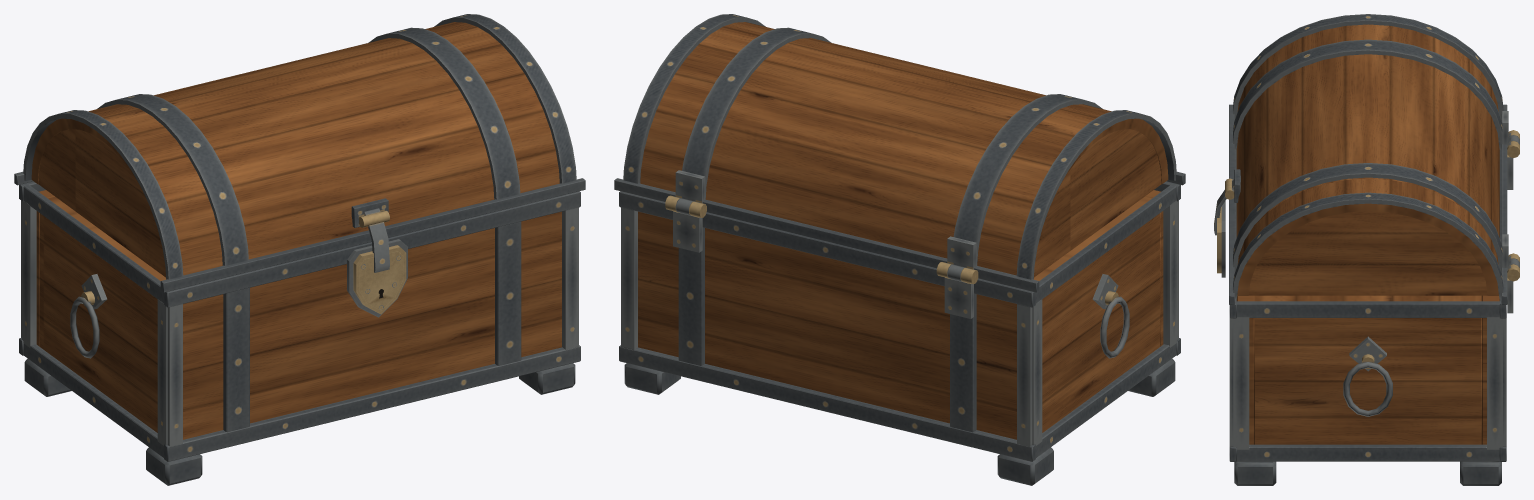
The picture shows the model from 3 angles, left to right: view 1: azimuth 30°, elevation 25°; view 2: azimuth 150°, elevation 25°; view 3: azimuth 270°, elevation 25°; orthographic projection. The views are drawn at different scales.
Parts seen in each view (by area): view 1: SM_Coffer_Lid.001, SM_Coffer_Body.001, SM_Coffer_BodyIron.001, SM_Coffer_LidIron.001, SM_Coffer_Lock.001, SM_Coffer_Hasp.001, SM_Coffer_Handle_L.001; view 2: SM_Coffer_Lid.001, SM_Coffer_Body.001, SM_Coffer_BodyIron.001, SM_Coffer_LidIron.001, SM_Coffer_Hinge_R_Fixed.001, SM_Coffer_Hinge_L_Fixed.001, SM_Coffer_Handle_L.001, SM_Coffer_Hinge_R_Moving.001, SM_Coffer_Hinge_L_Moving.001; view 3: SM_Coffer_Lid.001, SM_Coffer_Body.001, SM_Coffer_LidIron.001, SM_Coffer_BodyIron.001, SM_Coffer_Handle_R.001, SM_Coffer_Lock.001, SM_Coffer_Hasp.001, SM_Coffer_Hinge_R_Fixed.001, SM_Coffer_Hinge_L_Fixed.001.
Part boxes in pixels (x1,y1,x2,y2): SM_Coffer_Lid.001: [31, 22, 559, 277]; SM_Coffer_Body.001: [36, 190, 561, 439]; SM_Coffer_BodyIron.001: [19, 181, 580, 485]; SM_Coffer_LidIron.001: [14, 14, 585, 292]; SM_Coffer_Lock.001: [347, 239, 407, 317]; SM_Coffer_Hasp.001: [351, 198, 389, 272]; SM_Coffer_Handle_L.001: [70, 274, 107, 358]; SM_Coffer_Lid.001: [640, 22, 1168, 277]; SM_Coffer_Body.001: [638, 190, 1163, 439]; SM_Coffer_BodyIron.001: [619, 181, 1180, 485]; SM_Coffer_LidIron.001: [614, 14, 1185, 292]; SM_Coffer_Hinge_R_Fixed.001: [665, 195, 706, 252]; SM_Coffer_Hinge_L_Fixed.001: [936, 262, 978, 318]; SM_Coffer_Handle_L.001: [1092, 274, 1129, 358]; SM_Coffer_Hinge_R_Moving.001: [675, 170, 705, 215]; SM_Coffer_Hinge_L_Moving.001: [947, 236, 976, 281]; SM_Coffer_Lid.001: [1236, 24, 1499, 295]; SM_Coffer_Body.001: [1236, 295, 1499, 444]; SM_Coffer_LidIron.001: [1229, 14, 1507, 304]; SM_Coffer_BodyIron.001: [1229, 149, 1506, 485]; SM_Coffer_Handle_R.001: [1343, 336, 1392, 416]; SM_Coffer_Lock.001: [1217, 201, 1225, 277]; SM_Coffer_Hasp.001: [1214, 169, 1240, 235]; SM_Coffer_Hinge_R_Fixed.001: [1507, 253, 1519, 313]; SM_Coffer_Hinge_L_Fixed.001: [1507, 130, 1519, 189].
Bounding box in the file's own units: 1.76 × 1.19 × 1.15.
Materials: 2 (2 with a texture image).
